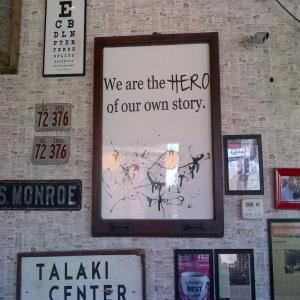Vehicle-registration-plate: (33, 137, 71, 164), (36, 104, 72, 132)
